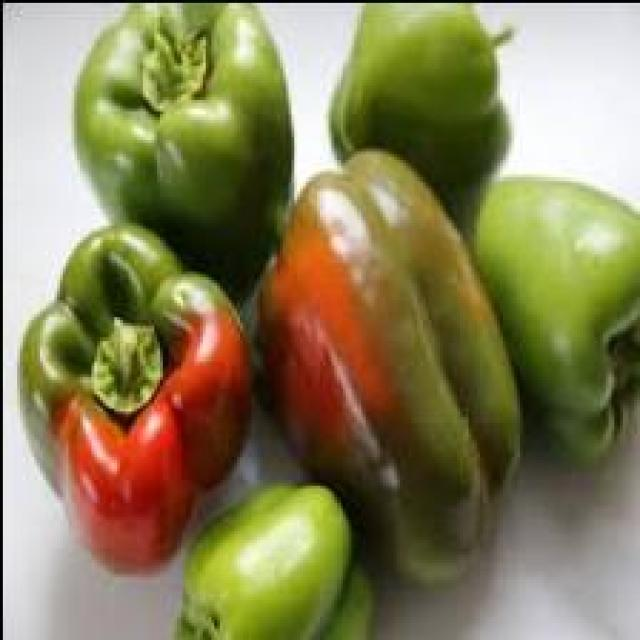Pepper: (243, 149, 520, 591), (26, 226, 257, 577), (71, 6, 294, 311), (474, 177, 640, 463), (329, 6, 511, 246), (171, 486, 374, 640)
